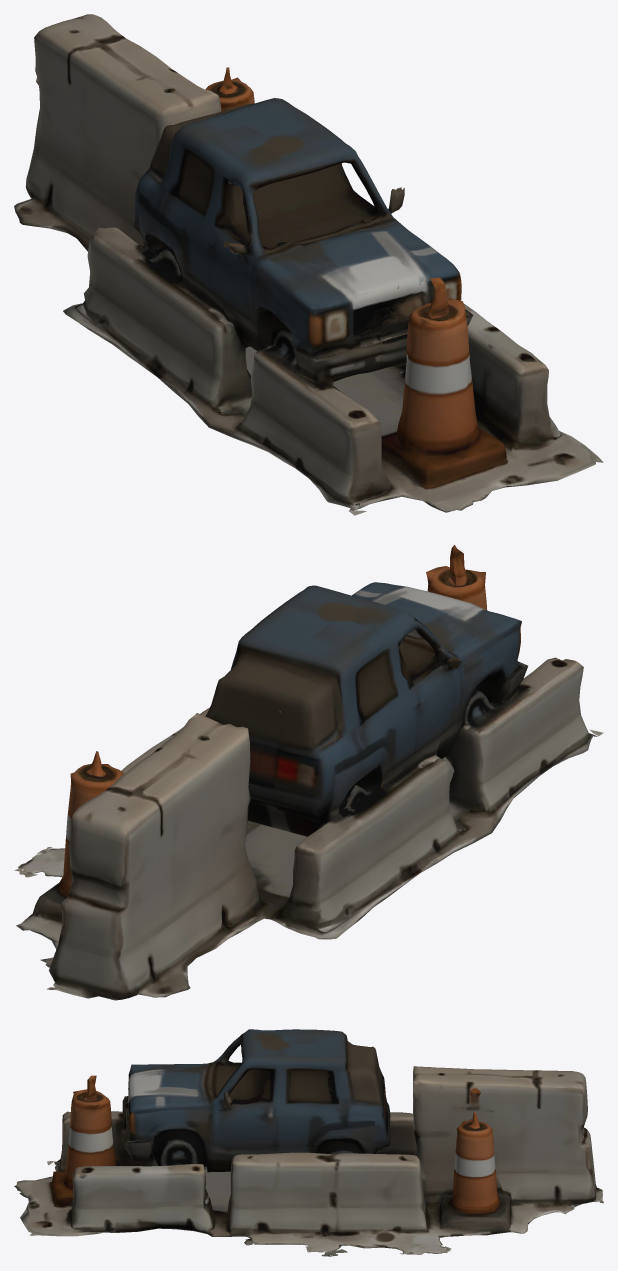
The model's file is SM_Vehicle_BlueCar_01.fbx.
3 views of the same model, one above another, from view 1: azimuth 30°, elevation 25°; view 2: azimuth 150°, elevation 25°; view 3: azimuth 270°, elevation 25° (orthographic). The views are drawn at different scales.
Parts seen in each view (by area): view 1: SM_Vehicle_BlueCar_01; view 2: SM_Vehicle_BlueCar_01; view 3: SM_Vehicle_BlueCar_01.
Part boxes in pixels (box(x1,y1,x2,y2)): SM_Vehicle_BlueCar_01: box(14, 14, 603, 515); SM_Vehicle_BlueCar_01: box(14, 545, 603, 1000); SM_Vehicle_BlueCar_01: box(14, 1029, 603, 1256).
Bounding box in the file's own units: 0.415 × 0.2833 × 0.9922.
1 material, 1 textured.
